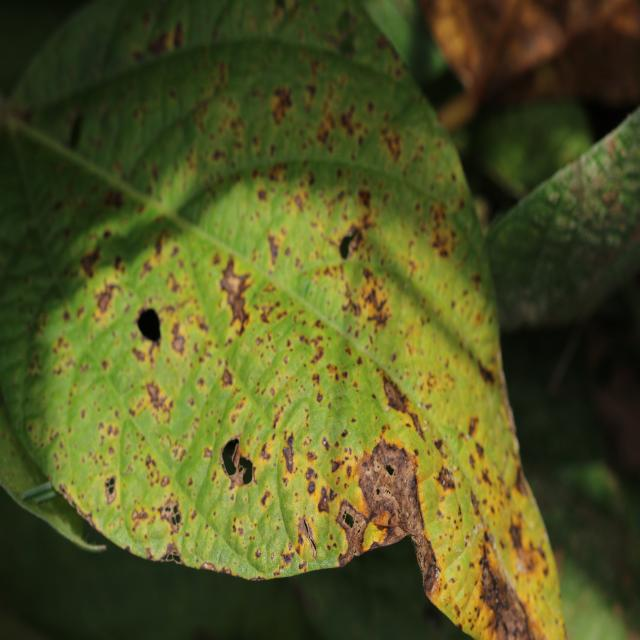Bacterial_Blight: (358, 427, 540, 637), (354, 437, 426, 557), (210, 427, 262, 487), (333, 496, 375, 567), (267, 69, 307, 139), (218, 256, 254, 332), (143, 13, 182, 75), (368, 122, 411, 159), (382, 376, 414, 416), (135, 306, 163, 345), (325, 102, 357, 136), (296, 514, 318, 560), (21, 480, 59, 505), (17, 220, 42, 257), (159, 497, 183, 533), (56, 100, 78, 137), (339, 227, 362, 261), (145, 381, 165, 408), (96, 288, 115, 315), (161, 544, 184, 563), (282, 443, 294, 473), (218, 111, 230, 141), (317, 487, 330, 513), (433, 438, 448, 459), (342, 511, 355, 528), (105, 477, 116, 497), (384, 463, 396, 477), (322, 436, 330, 450), (314, 218, 316, 220)
Soybean: (0, 0, 565, 638)
